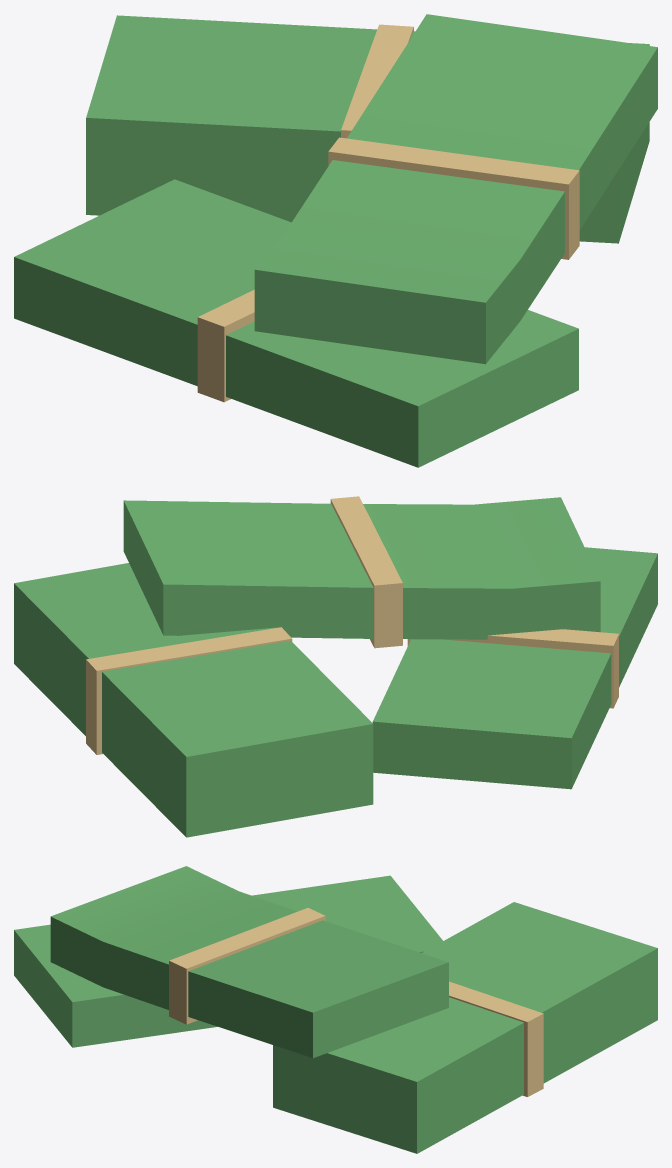
File: money3 1.fbx
3 views of the same model, one above another, from view 1: azimuth 30°, elevation 25°; view 2: azimuth 150°, elevation 25°; view 3: azimuth 270°, elevation 25° (orthographic). The views are drawn at different scales.
Parts seen in each view (by area): view 1: pCube8; view 2: pCube8; view 3: pCube8.
Part boxes in pixels (bbox=[...]): pCube8: bbox=[14, 14, 657, 467]; pCube8: bbox=[14, 496, 657, 837]; pCube8: bbox=[14, 866, 657, 1153].
Size of the model in its own units: 21.47 by 5.33 by 24.73.
